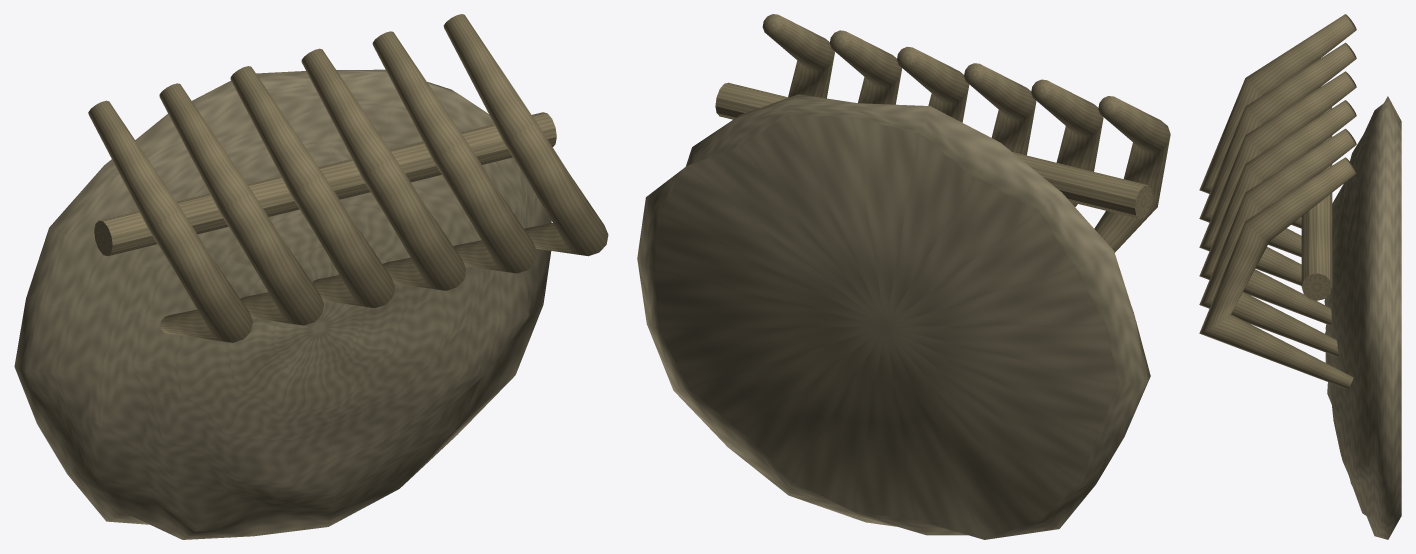
The model's file is exposed_root_wall_section_swamp_and_mangrove_22620.glb.
The picture shows the model from 3 angles, left to right: view 1: azimuth 30°, elevation 25°; view 2: azimuth 150°, elevation 25°; view 3: azimuth 270°, elevation 25°; orthographic projection. The views are drawn at different scales.
Visible parts, largest first — view 1: exposed-root-wall_0, exposed-root-wall_1, exposed-root-wall_5, exposed-root-wall_6, exposed-root-wall_4, exposed-root-wall_2, exposed-root-wall_3, exposed-root-wall_7; view 2: exposed-root-wall_0, exposed-root-wall_7, exposed-root-wall_1, exposed-root-wall_2, exposed-root-wall_3, exposed-root-wall_6, exposed-root-wall_5, exposed-root-wall_4; view 3: exposed-root-wall_0, exposed-root-wall_6, exposed-root-wall_5, exposed-root-wall_4, exposed-root-wall_3, exposed-root-wall_2, exposed-root-wall_1, exposed-root-wall_7.
Boxes of the visible parts, bbox=[...] form: exposed-root-wall_0: bbox=[14, 69, 551, 539]; exposed-root-wall_1: bbox=[88, 100, 252, 342]; exposed-root-wall_5: bbox=[372, 31, 537, 273]; exposed-root-wall_6: bbox=[443, 14, 608, 256]; exposed-root-wall_4: bbox=[301, 48, 466, 290]; exposed-root-wall_2: bbox=[159, 83, 323, 325]; exposed-root-wall_3: bbox=[230, 66, 395, 307]; exposed-root-wall_7: bbox=[94, 112, 556, 256]; exposed-root-wall_0: bbox=[637, 94, 1150, 539]; exposed-root-wall_7: bbox=[715, 82, 1152, 218]; exposed-root-wall_1: bbox=[1094, 96, 1170, 252]; exposed-root-wall_2: bbox=[1031, 79, 1103, 206]; exposed-root-wall_3: bbox=[964, 63, 1036, 155]; exposed-root-wall_6: bbox=[762, 14, 834, 98]; exposed-root-wall_5: bbox=[829, 30, 901, 104]; exposed-root-wall_4: bbox=[897, 46, 969, 122]; exposed-root-wall_0: bbox=[1324, 96, 1401, 539]; exposed-root-wall_6: bbox=[1199, 157, 1356, 389]; exposed-root-wall_5: bbox=[1199, 128, 1356, 356]; exposed-root-wall_4: bbox=[1199, 100, 1356, 325]; exposed-root-wall_3: bbox=[1199, 71, 1356, 285]; exposed-root-wall_2: bbox=[1199, 42, 1356, 257]; exposed-root-wall_1: bbox=[1199, 14, 1356, 228]; exposed-root-wall_7: bbox=[1301, 107, 1332, 300].
Size of the model in its own units: 3.03 by 2.68 by 1.19.
2 materials, 2 textured.
